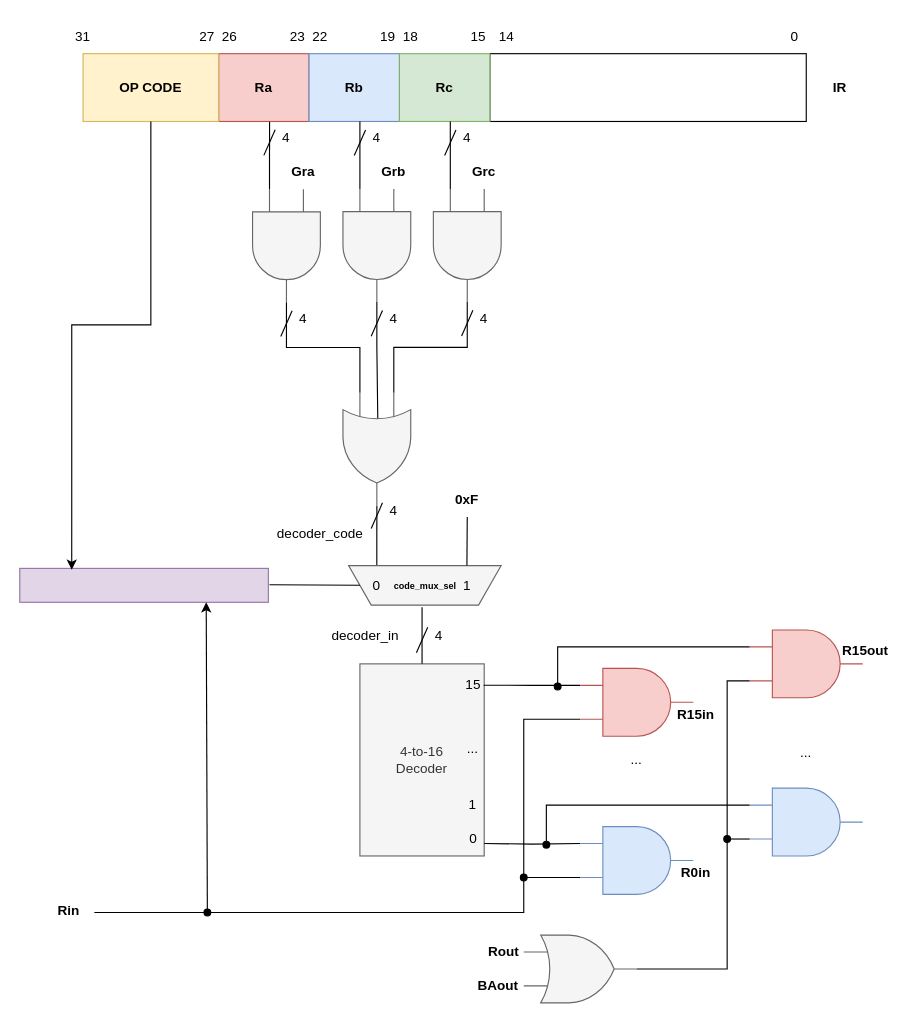
The diagram is 909 pixels wide and 1023 high, and some of its shapes have lost their labels. The shapes that lost their labels are listed below. From the top down, each one's centre as x and y in pixels, then its label:
At [647,87]: "unused".
At [143,584]: "(OPCODE == b10100) && (Rin == 1)".
At [806,821]: "R0out".
